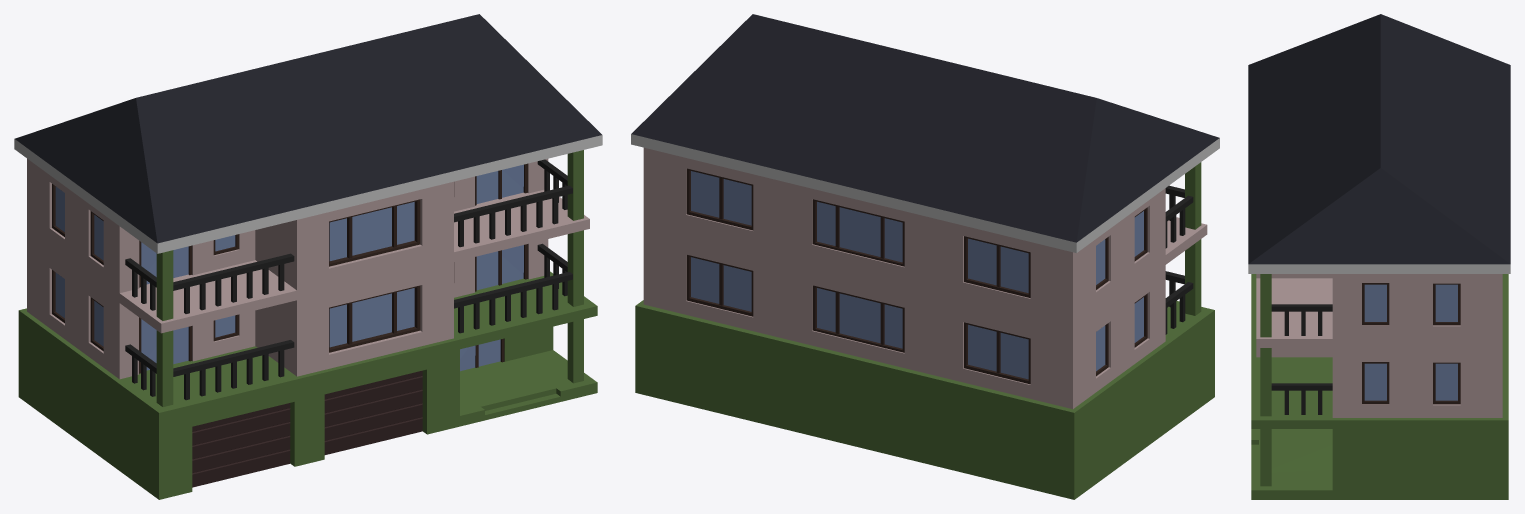
File: ApartmentBuilding_02.fbx
The picture shows the model from 3 angles, left to right: view 1: azimuth 30°, elevation 25°; view 2: azimuth 150°, elevation 25°; view 3: azimuth 270°, elevation 25°; orthographic projection. The views are drawn at different scales.
Visible parts, largest first — view 1: ApartmentBuilding_02; view 2: ApartmentBuilding_02; view 3: ApartmentBuilding_02.
Boxes of the visible parts, box(x1,y1,x2,y2) form: ApartmentBuilding_02: box(14, 14, 602, 499); ApartmentBuilding_02: box(631, 14, 1219, 499); ApartmentBuilding_02: box(1248, 14, 1510, 499).
Size of the model in its own units: 17.95 by 13.07 by 10.
